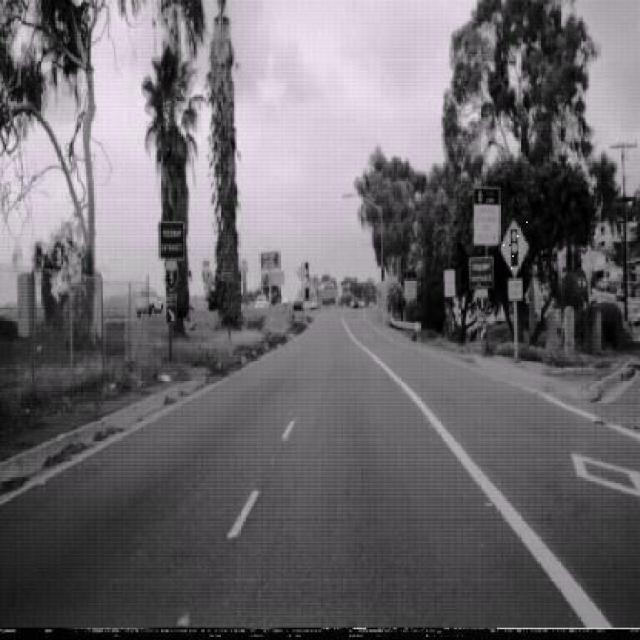signalAhead: (498, 217, 530, 277)
